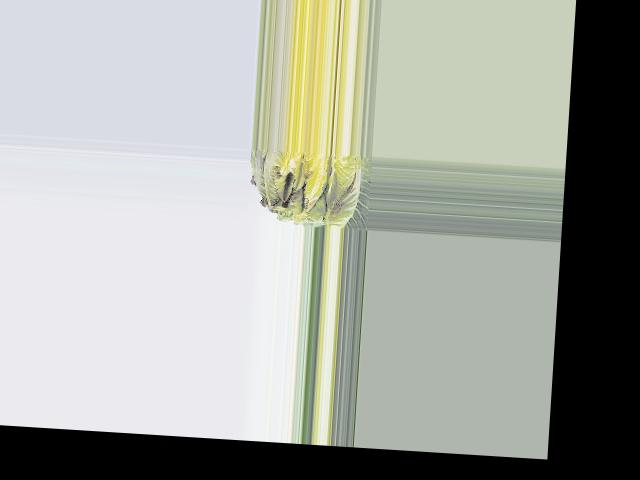lettuce: (250, 148, 372, 227)
